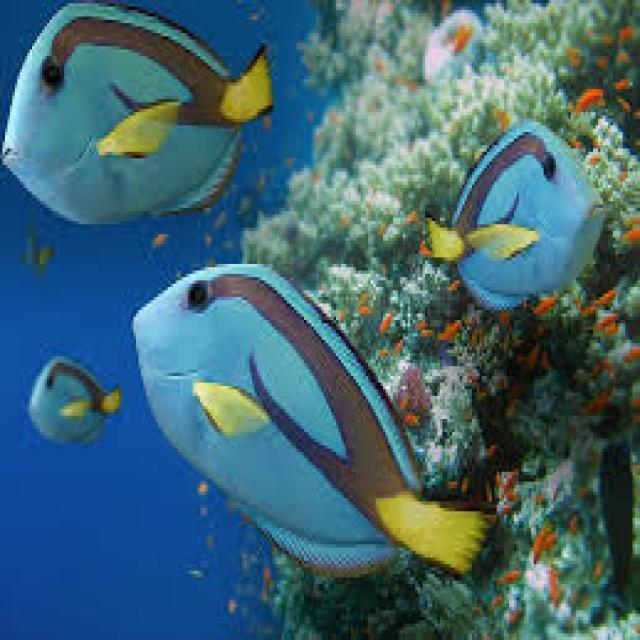TangFish: (130, 258, 490, 582), (4, 1, 276, 238), (425, 118, 609, 316), (22, 351, 124, 448)
